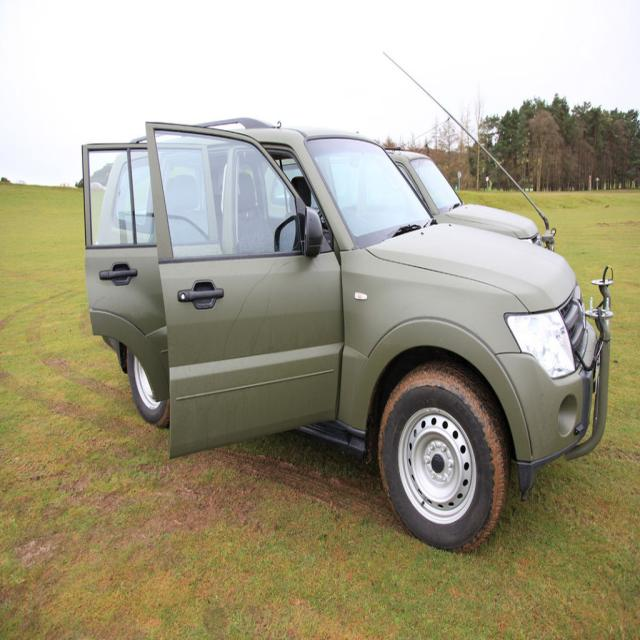car: (83, 110, 614, 554)
